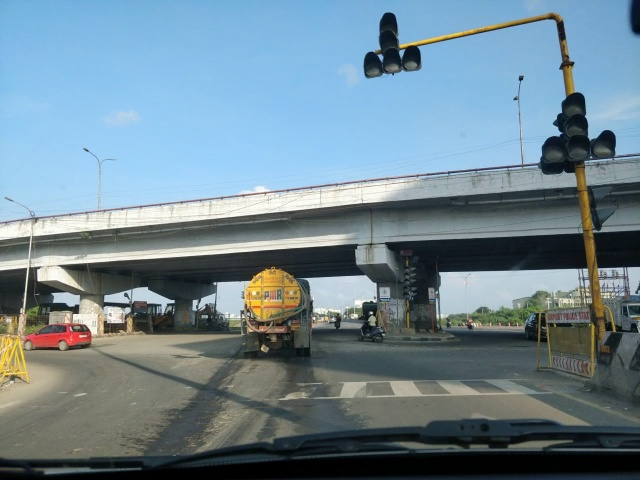auto: (606, 295, 639, 333)
car: (25, 325, 93, 353), (528, 314, 544, 338)
motorbike: (358, 316, 386, 345), (334, 315, 342, 330)
truck: (241, 271, 317, 365)
